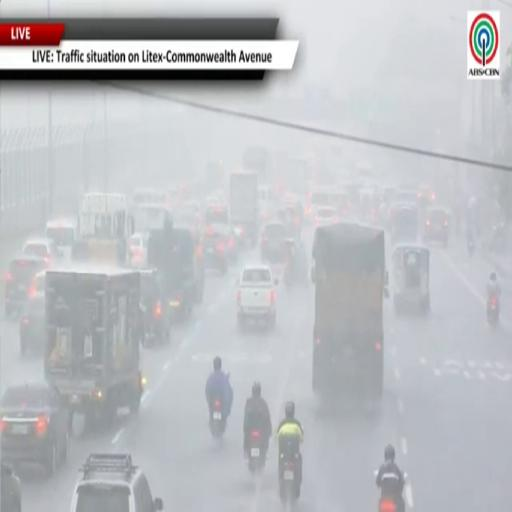car: (0, 382, 68, 475), (71, 454, 163, 511), (237, 265, 278, 328), (5, 255, 48, 315), (140, 269, 171, 347), (20, 272, 46, 357), (203, 224, 238, 273), (45, 219, 76, 261), (203, 226, 229, 274), (423, 206, 450, 247), (22, 237, 61, 264), (0, 462, 21, 511), (261, 222, 286, 263), (129, 233, 148, 268), (314, 206, 339, 227), (205, 202, 229, 223), (180, 201, 202, 223), (29, 270, 46, 296)
motorcycle: (280, 454, 300, 506), (248, 430, 266, 473), (210, 398, 225, 439), (486, 296, 500, 326), (378, 496, 400, 511), (284, 264, 294, 290), (468, 239, 475, 257)
truck: (44, 266, 143, 428), (312, 222, 389, 401), (148, 219, 204, 319), (72, 192, 134, 265), (230, 171, 259, 247), (242, 146, 270, 180)
